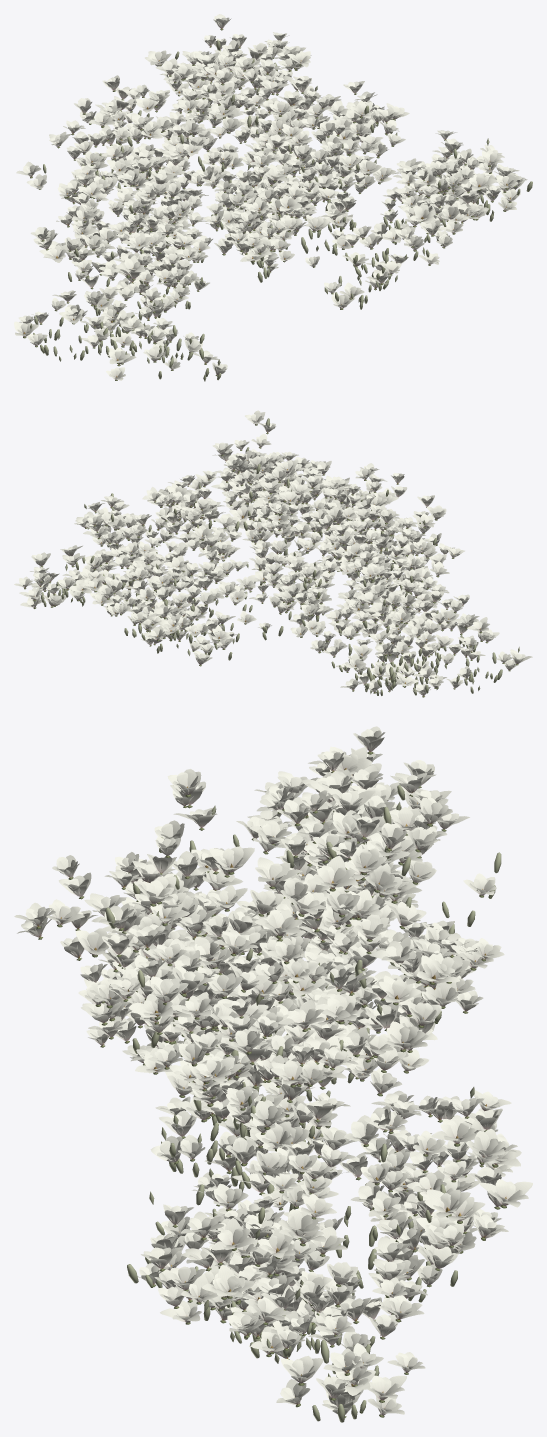
File: magnolia-flowers-and-buds.glb
3 renders of one model, top to bottom at view 1: azimuth 30°, elevation 25°; view 2: azimuth 150°, elevation 25°; view 3: azimuth 270°, elevation 25°, orthographic. The views are drawn at different scales.
Parts seen in each view (by area): view 1: Flowers, Buds; view 2: Flowers, Buds; view 3: Flowers, Buds.
Boxes of the visible parts, x1,y1,x2,y2 form: Flowers: (14, 14, 527, 380); Buds: (30, 40, 532, 381); Flowers: (14, 410, 532, 697); Buds: (39, 418, 519, 695); Flowers: (14, 726, 532, 1417); Buds: (105, 785, 501, 1422).
Bounding box in the file's own units: 7.18 × 3.77 × 3.45.
4 materials, 1 textured.
